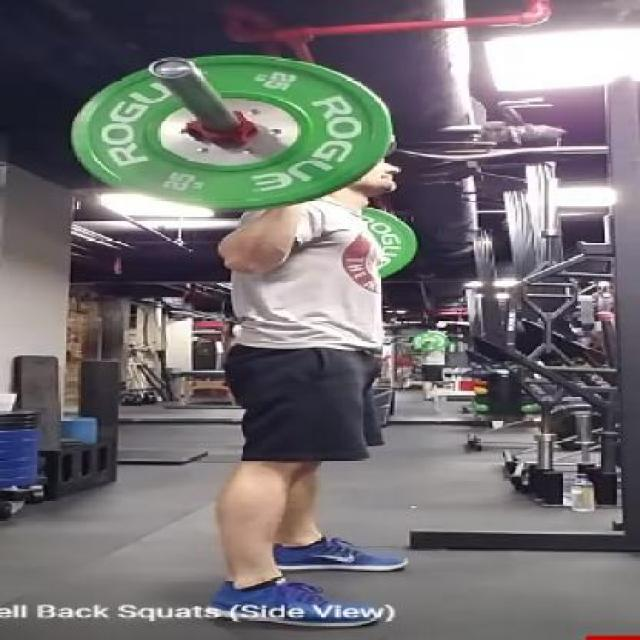Barbell: (148, 54, 200, 80)
